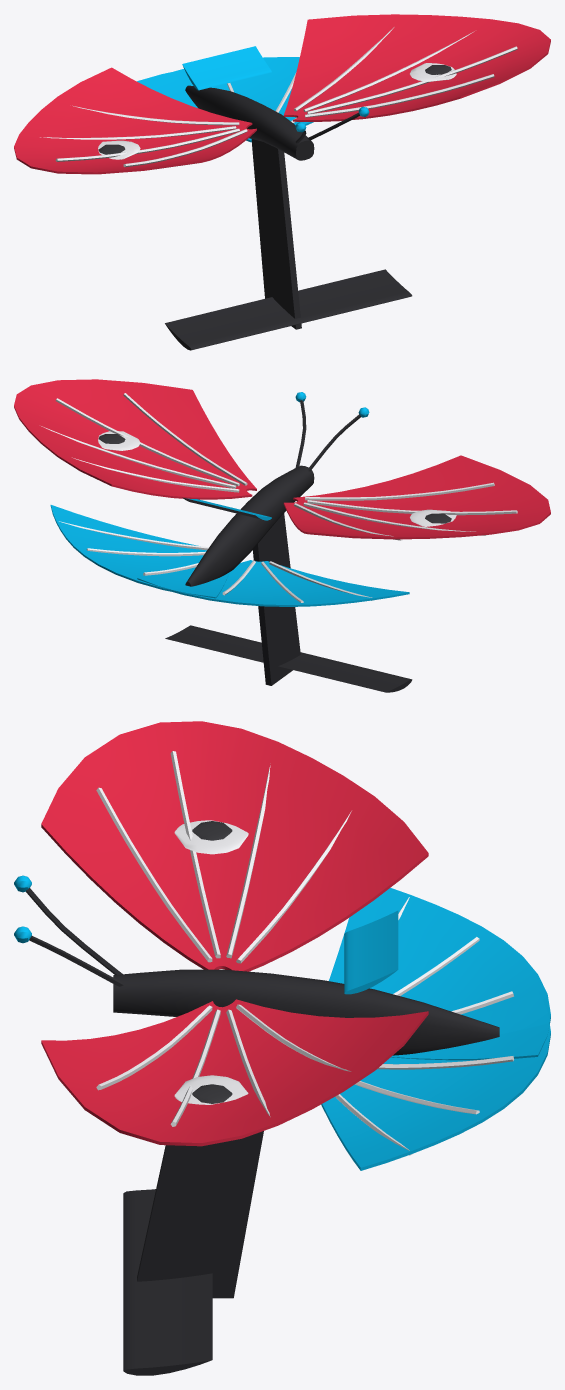
The model's file is butterfly.glb.
The picture shows the model from 3 angles, top to bottom: view 1: azimuth 30°, elevation 25°; view 2: azimuth 150°, elevation 25°; view 3: azimuth 270°, elevation 25°; orthographic projection. The views are drawn at different scales.
Visible parts, largest first — view 1: RearWing_butterfly, DRSFlap_butterfly; view 2: RearWing_butterfly, DRSFlap_butterfly; view 3: RearWing_butterfly, DRSFlap_butterfly.
Part boxes in pixels (bbox=[...]): RearWing_butterfly: bbox=[14, 14, 550, 350]; DRSFlap_butterfly: bbox=[182, 46, 271, 90]; RearWing_butterfly: bbox=[14, 379, 550, 692]; DRSFlap_butterfly: bbox=[182, 497, 271, 520]; RearWing_butterfly: bbox=[14, 721, 550, 1375]; DRSFlap_butterfly: bbox=[344, 910, 398, 994].
Size of the model in its own units: 1.99 by 0.868 by 1.07.
